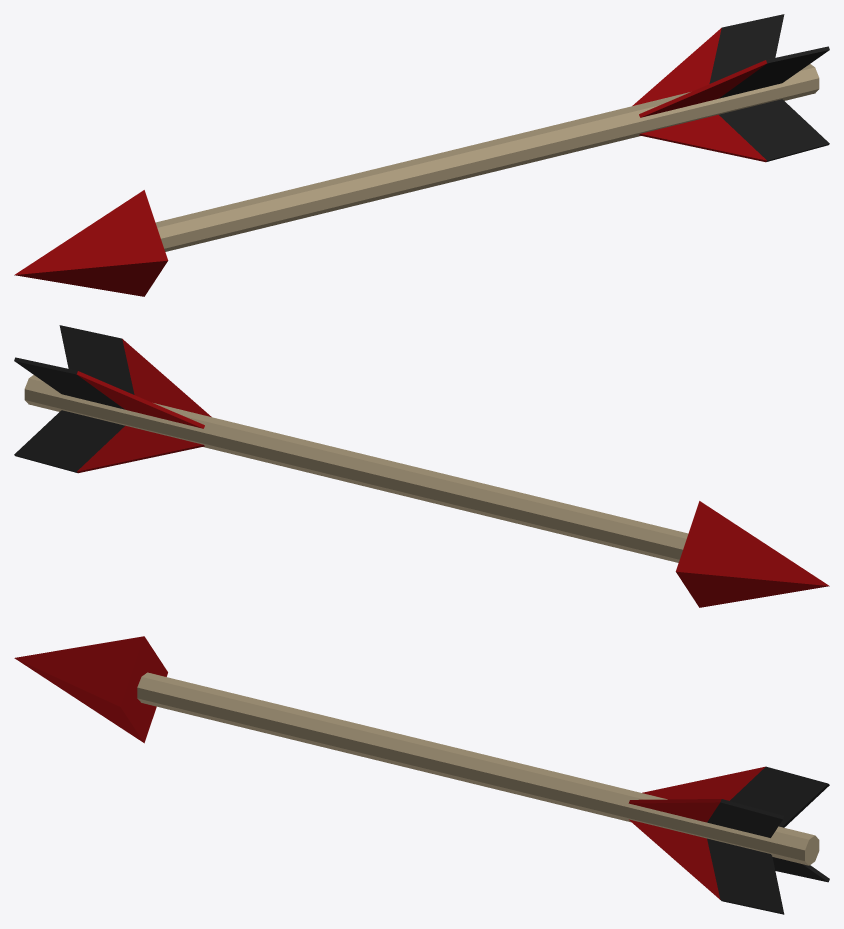
File: Arrow.fbx
The picture shows the model from 3 angles, top to bottom: view 1: azimuth 30°, elevation 25°; view 2: azimuth 150°, elevation 25°; view 3: azimuth 330°, elevation 25°; orthographic projection.
Parts seen in each view (by area): view 1: Cube; view 2: Cube; view 3: Cube.
Boxes of the visible parts, x1,y1,x2,y2 form: Cube: [14, 14, 829, 296]; Cube: [14, 325, 829, 607]; Cube: [14, 636, 829, 914].
Bounding box in the file's own units: 348 × 44.69 × 35.9.
